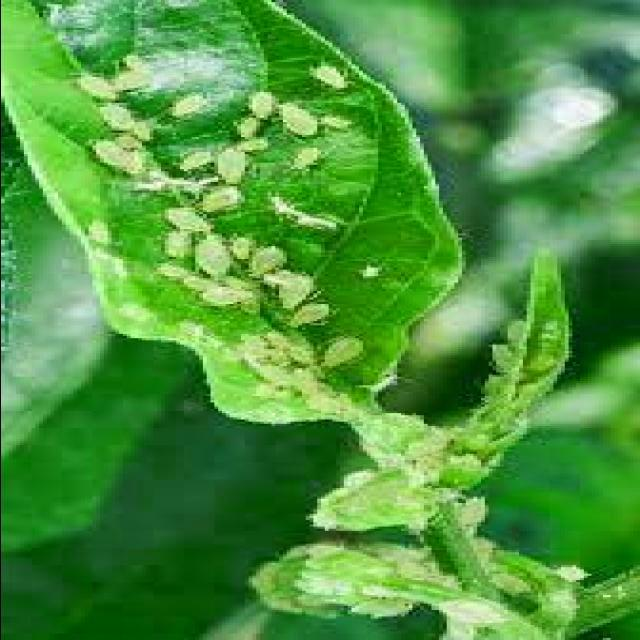aphid: (426, 591, 518, 625), (190, 233, 248, 280), (316, 330, 377, 372), (274, 96, 332, 139), (156, 203, 228, 236), (449, 488, 503, 531), (270, 270, 328, 310), (282, 296, 350, 330), (206, 146, 260, 186), (304, 58, 366, 92), (548, 554, 606, 590), (354, 574, 412, 608), (68, 68, 125, 102), (240, 244, 297, 278), (195, 282, 262, 310), (194, 184, 256, 214), (480, 338, 530, 374), (164, 88, 218, 120), (91, 100, 145, 132), (495, 315, 541, 349), (252, 361, 305, 390), (328, 464, 388, 488), (244, 86, 286, 120), (91, 137, 138, 167), (175, 144, 221, 174), (80, 212, 122, 244), (114, 60, 156, 92), (144, 259, 198, 283), (160, 225, 198, 259), (290, 144, 336, 172), (232, 111, 274, 139), (228, 231, 266, 261), (240, 334, 278, 364), (304, 574, 348, 598), (320, 111, 366, 133), (286, 340, 324, 364), (483, 371, 511, 398), (238, 136, 269, 154)
